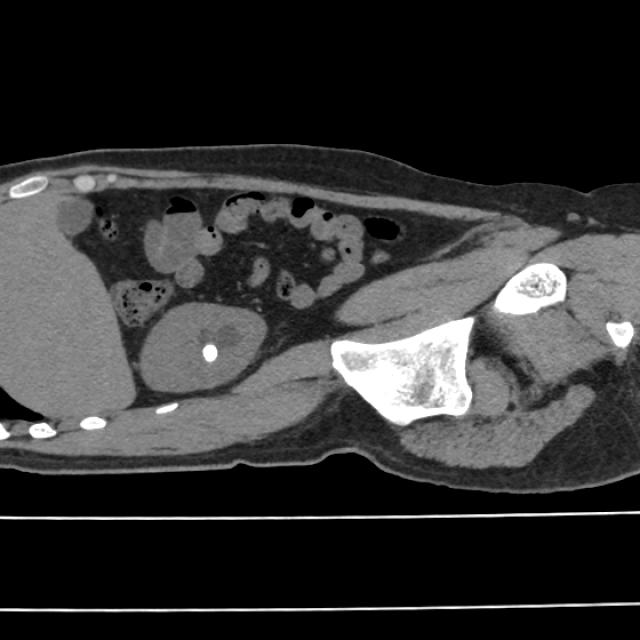kidney: (136, 298, 269, 395)
stone: (200, 338, 221, 372)
